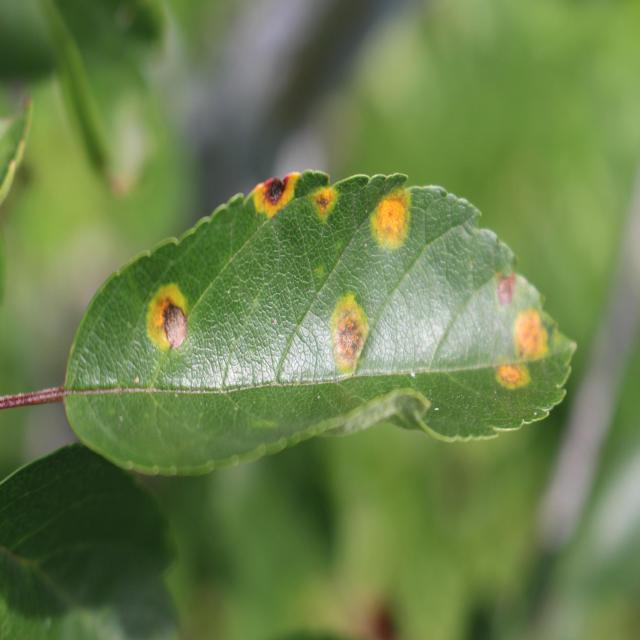Rust: (326, 274, 381, 405), (129, 271, 203, 363), (368, 165, 412, 257), (506, 300, 553, 373), (307, 160, 347, 234), (247, 172, 306, 219), (486, 250, 518, 318), (488, 360, 529, 406)
